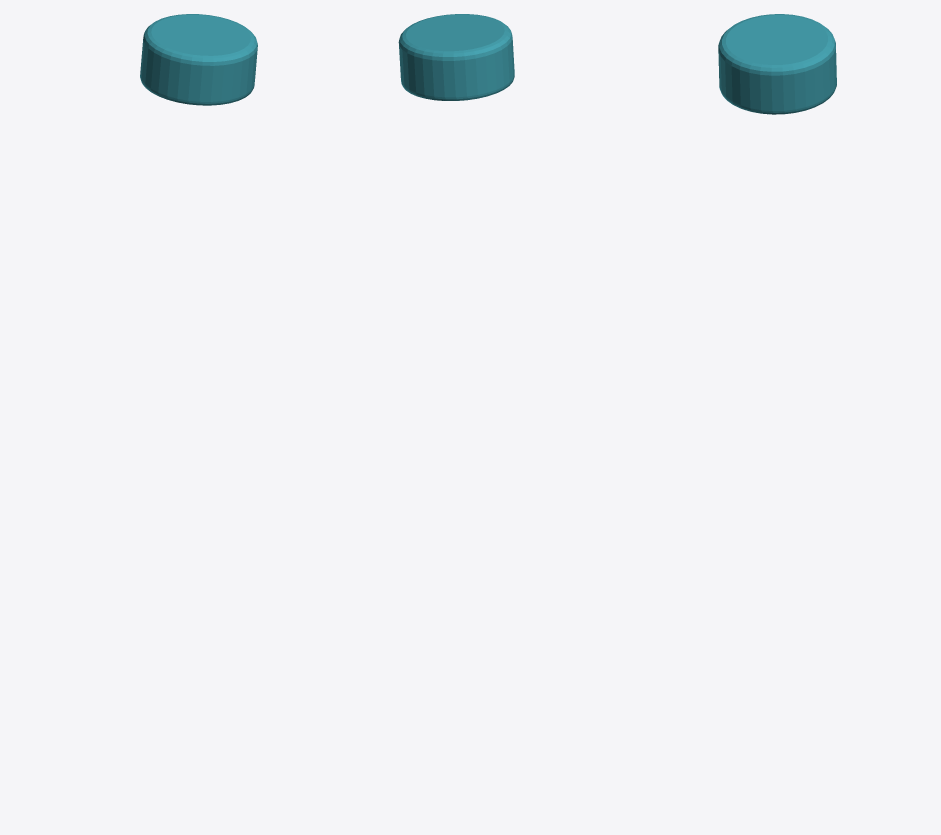
3 renders of one model, left to right at view 1: azimuth 30°, elevation 25°; view 2: azimuth 150°, elevation 25°; view 3: azimuth 270°, elevation 25°, orthographic. The views are drawn at different scales.
Size of the model in its own units: 0.0891 by 0.25 by 0.0808.
Materials: 1 (1 with a texture image).
